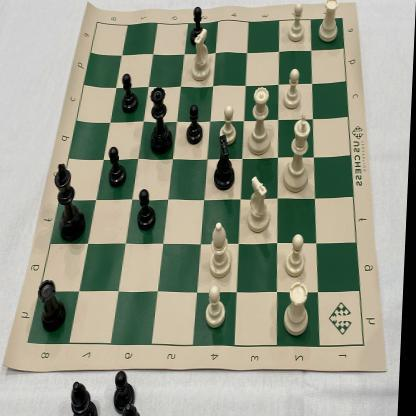black-king: (52, 160, 92, 245)
black-knight: (211, 134, 240, 192)
black-pawn: (136, 186, 161, 232), (106, 144, 130, 189), (119, 71, 141, 117), (185, 103, 207, 146), (190, 4, 206, 45)
black-queen: (148, 85, 177, 157)
black-rook: (38, 270, 72, 336)
white-bishop: (209, 218, 236, 280)
white-king: (283, 111, 316, 193)
white-knight: (247, 172, 275, 233), (190, 26, 214, 83)
white-pawn: (206, 283, 234, 330), (285, 233, 311, 278), (283, 66, 306, 110), (286, 0, 308, 42), (219, 103, 239, 144)
white-queen: (247, 82, 274, 158)
white-rook: (282, 280, 317, 338), (316, 0, 340, 44)
